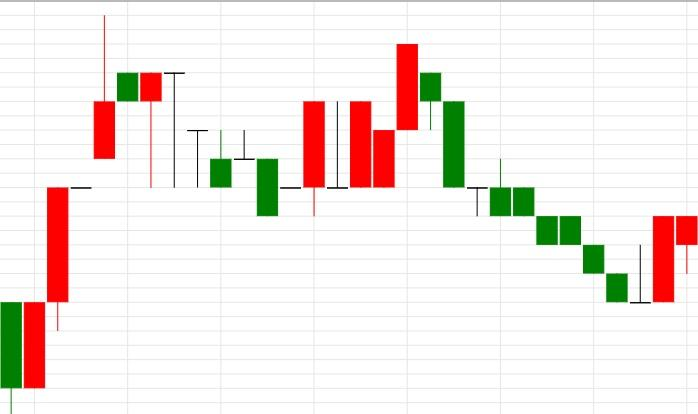hanging_man_fall: (0, 16, 163, 413)
morning_star_rise: (396, 43, 675, 304)
